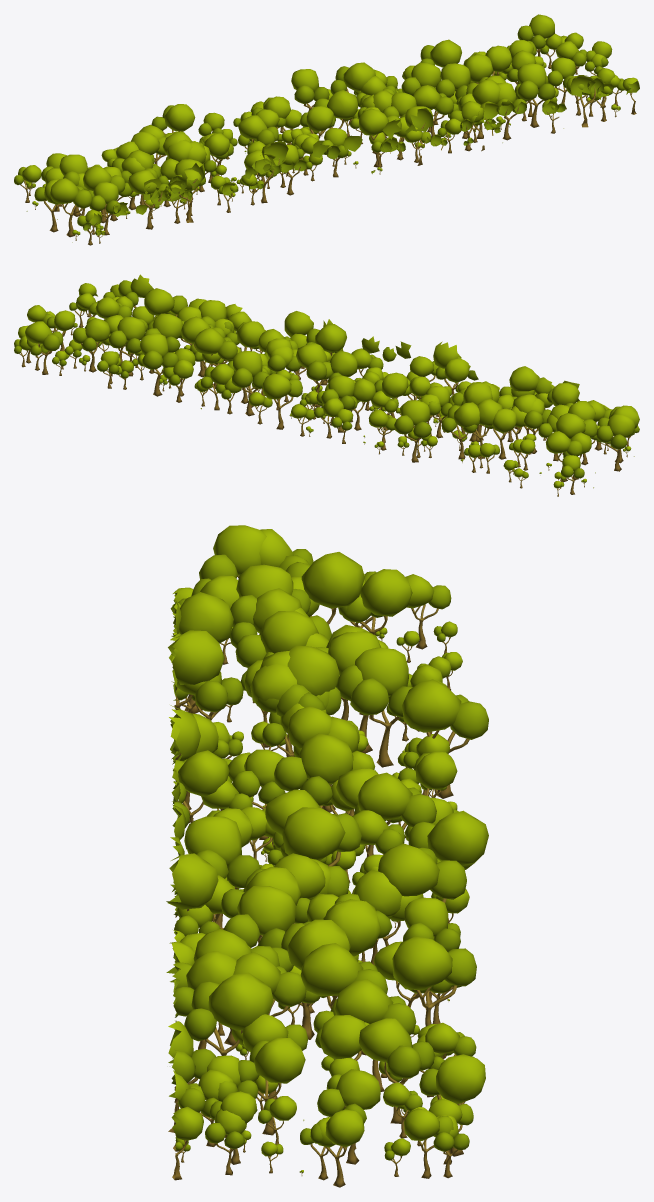
3 views of the same model, one above another, from view 1: azimuth 30°, elevation 25°; view 2: azimuth 150°, elevation 25°; view 3: azimuth 270°, elevation 25° (orthographic). The views are drawn at different scales.
Visible parts, largest first — view 1: Tree Part 3; view 2: Tree Part 3; view 3: Tree Part 3.
Part boxes in pixels (bbox=[...]): Tree Part 3: bbox=[14, 14, 639, 245]; Tree Part 3: bbox=[14, 274, 639, 496]; Tree Part 3: bbox=[166, 525, 488, 1187].
Size of the model in its own units: 10473 by 1027 by 2508.
Materials: 1 (1 with a texture image).
